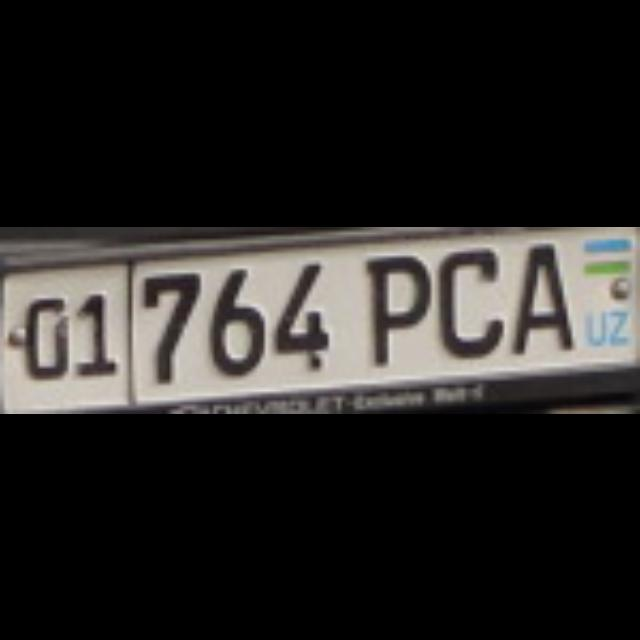0: (17, 290, 64, 372)
1: (68, 286, 112, 366)
4: (270, 256, 324, 366)
6: (206, 260, 260, 366)
7: (136, 264, 196, 376)
A: (504, 234, 572, 346)
C: (431, 238, 495, 349)
P: (359, 248, 427, 362)
